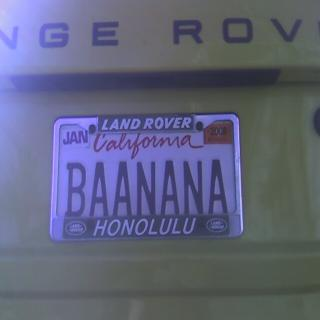license: (51, 113, 245, 242)
